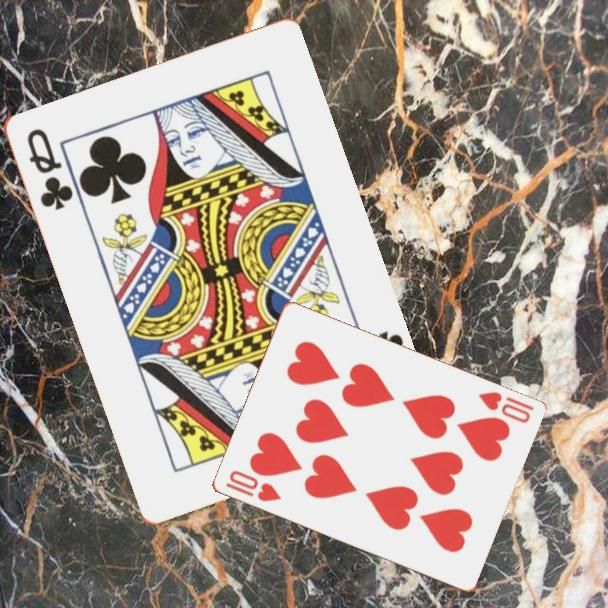c12: (22, 124, 76, 213)
h10: (222, 467, 284, 505), (475, 388, 537, 426)
